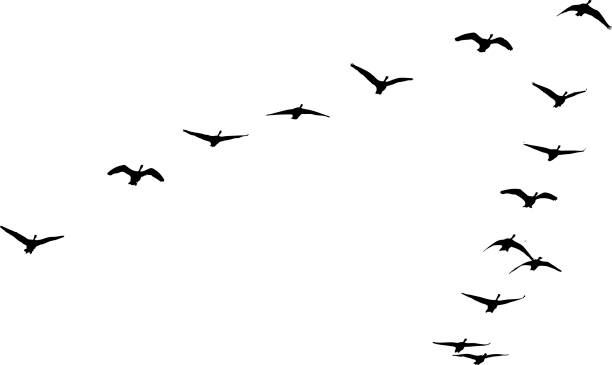goose: (345, 61, 415, 99), (1, 224, 67, 258), (451, 27, 517, 59), (104, 160, 166, 192), (458, 290, 530, 317), (267, 102, 333, 130), (553, 1, 612, 32), (530, 79, 589, 110), (521, 138, 588, 165), (181, 125, 251, 150), (498, 185, 562, 212), (481, 232, 535, 262), (506, 256, 562, 276), (431, 336, 492, 353), (451, 352, 510, 365)
